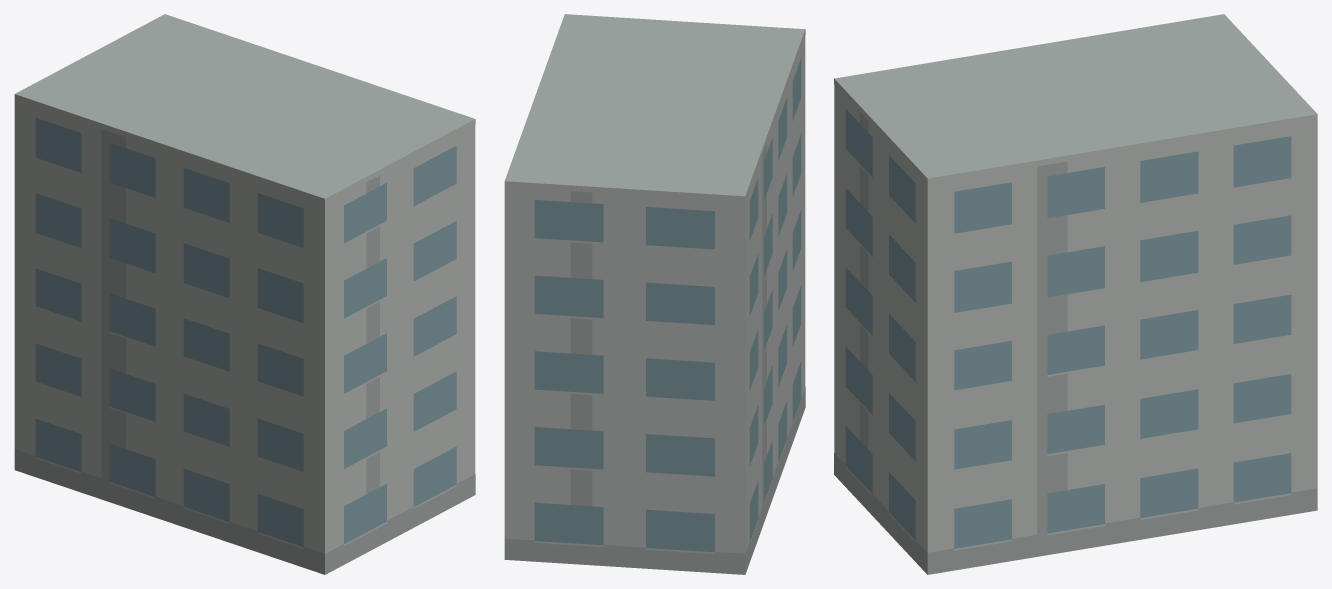
File: survey-upis-32885919.glb
3 renders of one model, left to right at view 1: azimuth 30°, elevation 25°; view 2: azimuth 150°, elevation 25°; view 3: azimuth 270°, elevation 25°, orthographic. The views are drawn at different scales.
Parts seen in each view (by area): view 1: survey-upis-32885919.tmp; view 2: survey-upis-32885919.tmp; view 3: survey-upis-32885919.tmp.
Part boxes in pixels (x1,y1,x2,y2): survey-upis-32885919.tmp: (14,14,475,574); survey-upis-32885919.tmp: (504,14,805,574); survey-upis-32885919.tmp: (834,14,1317,574).
Size of the model in its own units: 14.26 by 16 by 17.7.
